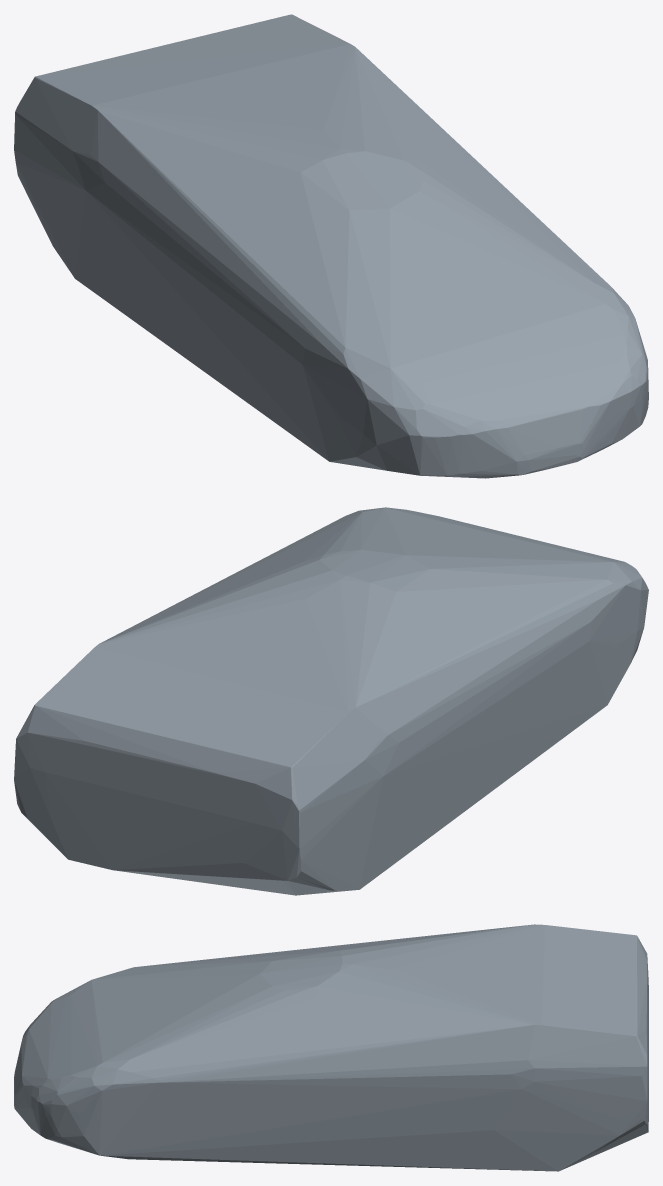
Rendered from hypercar-collision.glb.
The picture shows the model from 3 angles, top to bottom: view 1: azimuth 30°, elevation 25°; view 2: azimuth 150°, elevation 25°; view 3: azimuth 270°, elevation 25°; orthographic projection. The views are drawn at different scales.
Visible parts, largest first — view 1: hypercar_collision; view 2: hypercar_collision; view 3: hypercar_collision.
Part boxes in pixels (x1=…): hypercar_collision: x1=14, y1=14, x2=648, y2=478; hypercar_collision: x1=14, y1=507, x2=648, y2=895; hypercar_collision: x1=14, y1=924, x2=648, y2=1171.
Bounding box in the file's own units: 2.04 × 1.25 × 4.7.
